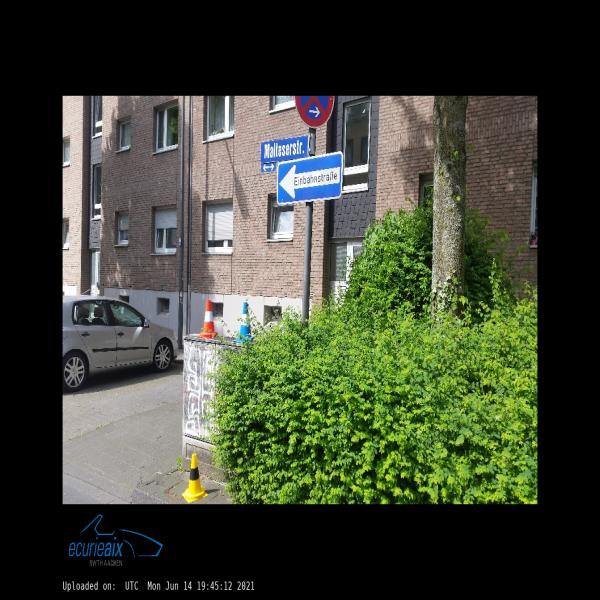blue_cone: (233, 302, 254, 342)
orange_cone: (197, 300, 218, 337)
yellow_cone: (183, 454, 208, 502)
